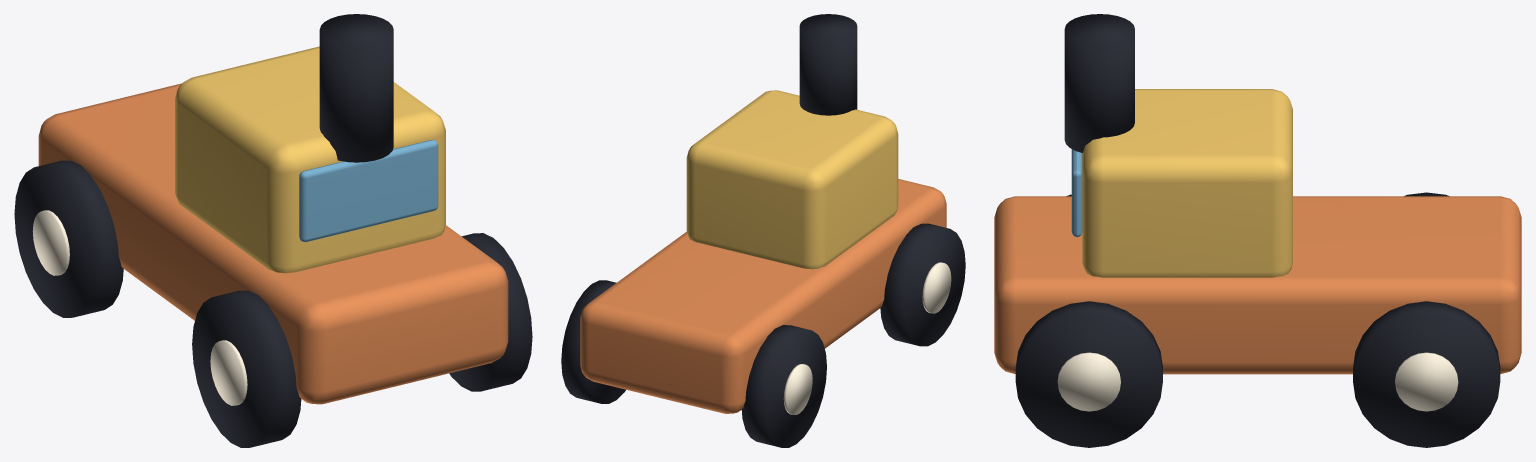
File: word-train.glb
The picture shows the model from 3 angles, left to right: view 1: azimuth 30°, elevation 25°; view 2: azimuth 150°, elevation 25°; view 3: azimuth 270°, elevation 25°; orthographic projection. The views are drawn at different scales.
Parts seen in each view (by area): view 1: vehicle body, cabin, rubber wheel.001, rubber wheel, chimney, windshield, rubber wheel.002, wheel hub, wheel hub.001; view 2: vehicle body, cabin, rubber wheel, rubber wheel.001, chimney, rubber wheel.003, wheel hub.001, wheel hub; view 3: vehicle body, cabin, rubber wheel.002, rubber wheel.003, chimney, wheel hub.002, wheel hub.003, windshield.
Boxes of the visible parts, box(x1,y1,x2,y2) form: vehicle body: box(38, 83, 508, 404); cabin: box(175, 46, 445, 273); rubber wheel.001: box(14, 160, 123, 317); rubber wheel: box(192, 290, 301, 447); chimney: box(319, 14, 393, 162); windshield: box(299, 140, 438, 242); rubber wheel.002: box(449, 233, 532, 391); wheel hub: box(210, 340, 247, 405); wheel hub.001: box(32, 210, 69, 275); vehicle body: box(580, 179, 946, 413); cabin: box(686, 90, 898, 269); rubber wheel: box(880, 223, 965, 346); rubber wheel.001: box(741, 325, 826, 447); chimney: box(799, 14, 857, 115); rubber wheel.003: box(561, 280, 625, 403); wheel hub.001: box(783, 364, 812, 414); wheel hub: box(922, 262, 951, 313); vehicle body: box(994, 196, 1521, 374); cabin: box(1082, 89, 1292, 277); rubber wheel.002: box(1015, 301, 1162, 447); rubber wheel.003: box(1353, 301, 1500, 447); chimney: box(1064, 14, 1134, 152); wheel hub.002: box(1057, 352, 1120, 411); wheel hub.003: box(1395, 352, 1458, 411); windshield: box(1071, 149, 1082, 237).
Size of the model in its own units: 0.844 by 1.12 by 1.5.
